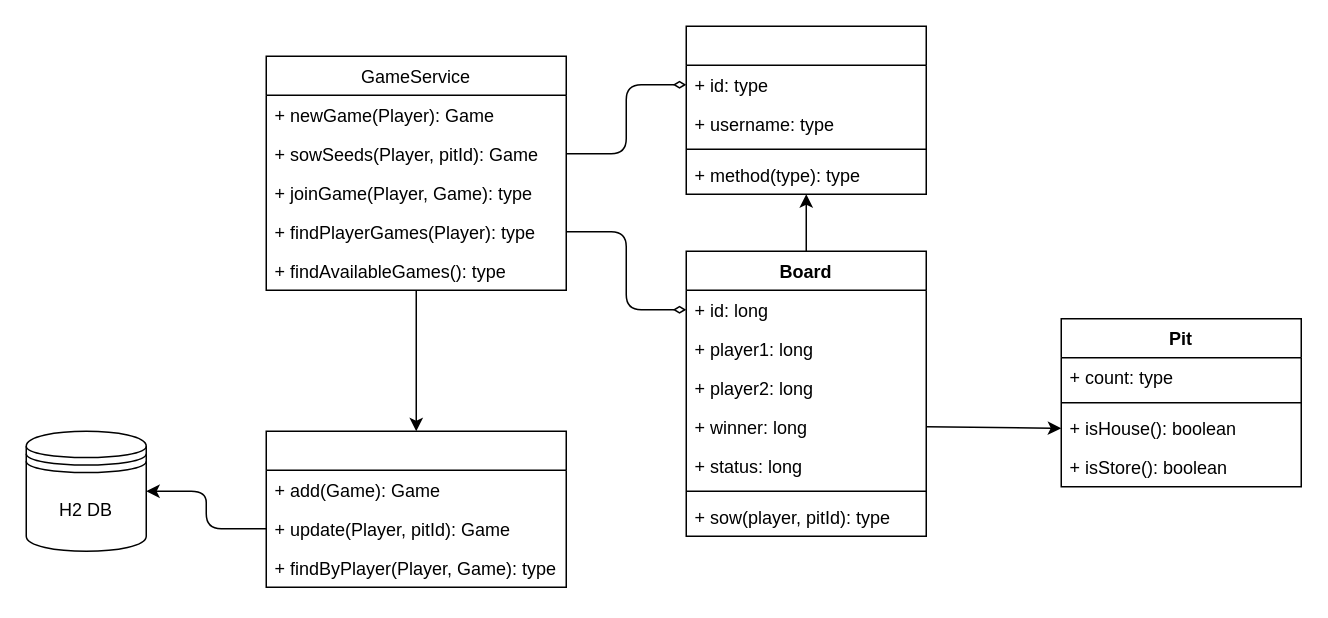
This 1328x618 diagram has some shape labels left out. Here are the shapes that lost their labels. From the top down, the box of each, then its label:
(685, 25, 926, 194): Player
(265, 430, 566, 587): GameRepository
